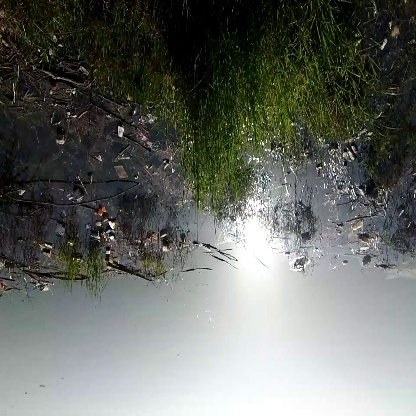branch: (5, 179, 144, 211)
